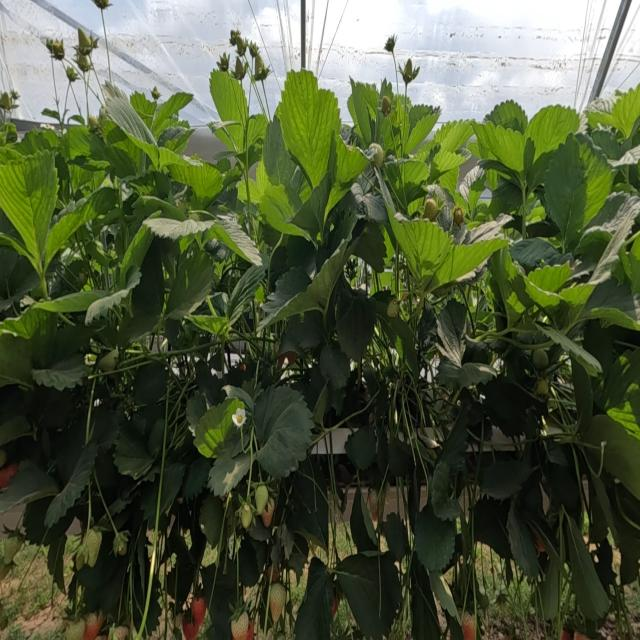Flowers: (233, 408, 245, 427), (152, 86, 159, 99)
Leaves: (0, 151, 58, 289), (0, 306, 95, 385), (544, 134, 611, 245), (277, 70, 339, 188), (304, 207, 357, 313), (336, 552, 400, 639), (254, 385, 312, 477), (560, 508, 608, 618), (586, 196, 640, 285), (388, 214, 452, 286), (585, 414, 639, 497), (118, 250, 163, 346), (525, 263, 587, 328), (77, 534, 128, 611), (49, 441, 97, 520), (482, 376, 538, 438), (436, 238, 507, 286), (295, 556, 335, 639), (166, 251, 214, 319), (491, 249, 533, 325), (103, 83, 155, 144), (159, 148, 222, 198), (43, 204, 92, 267), (85, 271, 141, 325), (1, 461, 59, 513), (414, 497, 455, 570), (260, 268, 310, 327), (479, 443, 531, 499), (290, 471, 327, 549), (526, 105, 579, 159), (540, 328, 601, 374), (209, 431, 251, 497), (259, 184, 310, 238), (330, 136, 368, 208), (472, 123, 525, 174), (0, 246, 40, 311), (194, 399, 241, 454), (336, 296, 375, 362), (384, 153, 429, 209), (584, 192, 640, 236), (507, 500, 538, 579), (113, 419, 154, 478), (290, 177, 329, 239), (348, 81, 384, 148), (215, 214, 261, 265), (382, 315, 419, 378), (436, 406, 469, 475), (263, 117, 296, 185), (227, 262, 265, 321), (209, 70, 248, 127), (474, 496, 510, 557), (543, 461, 579, 522), (104, 123, 143, 178), (582, 279, 636, 318), (604, 348, 639, 406), (120, 223, 155, 281), (411, 570, 440, 639), (32, 353, 87, 389), (402, 104, 440, 156), (57, 413, 86, 481), (436, 302, 466, 367), (31, 290, 107, 314), (23, 497, 61, 545), (280, 312, 323, 354), (66, 126, 115, 162), (1, 385, 31, 443), (430, 460, 459, 520), (350, 488, 377, 551), (510, 238, 563, 270), (437, 359, 495, 388), (153, 92, 191, 136), (143, 217, 215, 240), (133, 361, 167, 407), (188, 164, 223, 208), (611, 85, 639, 139), (351, 183, 388, 223), (461, 215, 511, 244), (319, 341, 350, 387), (538, 559, 561, 620), (159, 464, 185, 517), (486, 100, 527, 133), (431, 148, 463, 189), (345, 425, 375, 468), (133, 196, 186, 220), (433, 121, 474, 152), (200, 492, 223, 547), (129, 171, 171, 201), (196, 361, 224, 405), (182, 457, 211, 499), (89, 408, 119, 448), (383, 513, 408, 560), (364, 369, 388, 416), (388, 437, 414, 476), (141, 475, 159, 527), (187, 315, 230, 336), (88, 187, 118, 217), (459, 165, 484, 201), (248, 162, 269, 204), (222, 385, 254, 412), (186, 391, 207, 431), (608, 145, 640, 168), (246, 114, 267, 147), (313, 383, 328, 428), (148, 418, 164, 455), (114, 222, 129, 260), (223, 124, 243, 152), (420, 436, 440, 450), (238, 181, 246, 200)
Strawberries: (73, 29, 97, 71), (81, 528, 102, 567), (400, 58, 419, 99), (269, 584, 287, 620), (2, 536, 23, 564), (82, 612, 103, 639), (231, 611, 249, 639), (0, 462, 18, 489), (191, 596, 206, 628), (253, 55, 270, 81), (365, 143, 385, 165), (45, 39, 63, 61), (366, 488, 378, 521), (65, 619, 84, 639), (462, 612, 476, 639), (255, 484, 267, 513), (0, 91, 19, 109), (182, 619, 199, 639), (239, 503, 252, 529), (424, 198, 440, 219), (230, 30, 244, 54), (113, 532, 127, 555), (234, 56, 246, 81), (261, 504, 274, 527), (533, 349, 547, 369), (384, 34, 397, 54), (387, 298, 399, 318), (454, 206, 464, 227), (112, 626, 127, 639), (536, 379, 548, 395), (219, 53, 229, 71), (75, 553, 85, 571), (381, 97, 390, 115), (88, 116, 98, 132), (562, 628, 573, 639)
